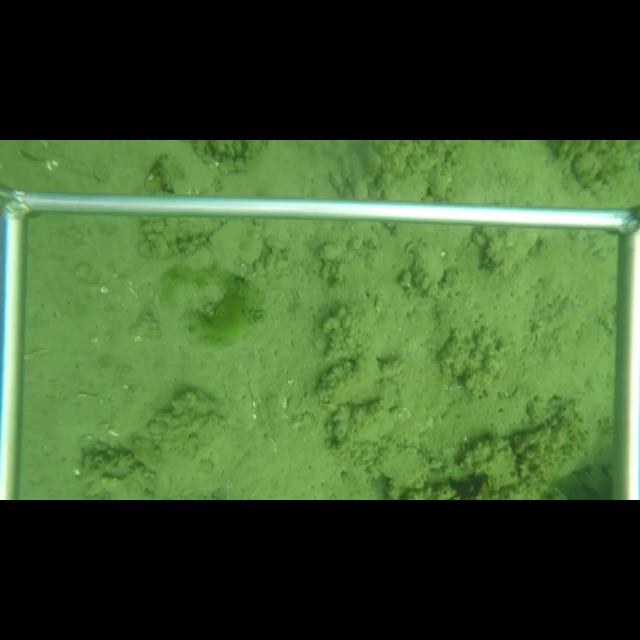Oyster-Closed: (366, 441, 433, 490), (485, 229, 547, 274), (156, 153, 219, 196), (411, 243, 449, 291)
